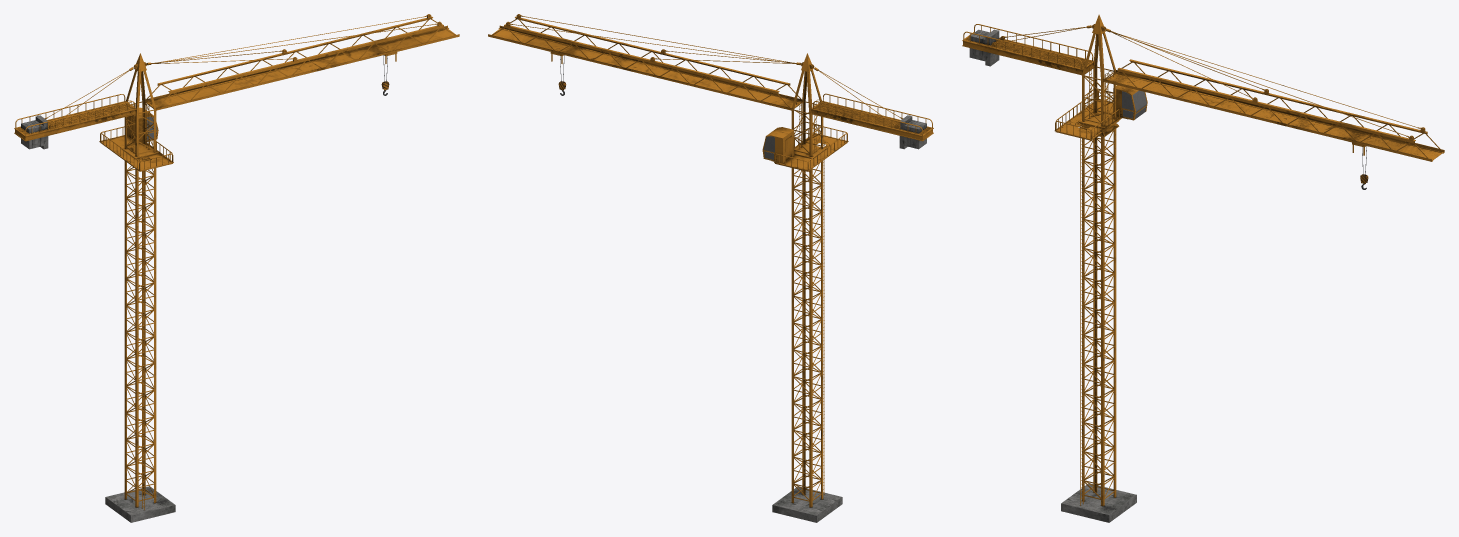
The model's file is tower_crane.glb.
The picture shows the model from 3 angles, left to right: view 1: azimuth 30°, elevation 25°; view 2: azimuth 150°, elevation 25°; view 3: azimuth 330°, elevation 25°; orthographic projection. The views are drawn at different scales.
Parts seen in each view (by area): view 1: Cube.052_UV_0, Cube.055_UV_0, Plane.023_UV_0, Cube.073_CONCRETE_0, Cube.053_UV_0, Cube.054_UV_0, Cube.056_frame_0, Cube.101_UV_0, Plane.029_UV_0, Cube.074_UV_0; view 2: Cube.052_UV_0, Cube.055_UV_0, Plane.023_UV_0, Cube.073_CONCRETE_0, Cube.053_UV_0, Cube.054_UV_0, Cube.056_frame_0, Cube.101_UV_0, Cube.072_UV_0, Cube.075_UV_0, Cube.074_UV_0; view 3: Cube.052_UV_0, Cube.055_UV_0, Plane.023_UV_0, Cube.073_CONCRETE_0, Cube.053_UV_0, Cube.054_UV_0, Cube.056_frame_0, Plane.029_UV_0, Cube.074_UV_0, Cube.101_UV_0, Cube.075_UV_0.
Boxes of the visible parts, <box> form: Cube.052_UV_0: <box>124,161,156,507</box>; Cube.055_UV_0: <box>145,16,459,110</box>; Plane.023_UV_0: <box>147,29,455,107</box>; Cube.073_CONCRETE_0: <box>105,486,175,522</box>; Cube.053_UV_0: <box>124,70,156,156</box>; Cube.054_UV_0: <box>14,101,136,141</box>; Cube.056_frame_0: <box>16,101,134,134</box>; Cube.101_UV_0: <box>102,136,171,169</box>; Plane.029_UV_0: <box>137,155,144,510</box>; Cube.074_UV_0: <box>138,175,153,501</box>; Cube.052_UV_0: <box>791,161,823,507</box>; Cube.055_UV_0: <box>488,16,802,110</box>; Plane.023_UV_0: <box>491,29,800,107</box>; Cube.073_CONCRETE_0: <box>772,486,842,522</box>; Cube.053_UV_0: <box>791,70,823,156</box>; Cube.054_UV_0: <box>811,100,933,141</box>; Cube.056_frame_0: <box>814,101,931,134</box>; Cube.101_UV_0: <box>776,134,845,169</box>; Cube.072_UV_0: <box>762,127,794,163</box>; Cube.075_UV_0: <box>794,175,809,501</box>; Cube.074_UV_0: <box>804,169,821,493</box>; Cube.052_UV_0: <box>1082,129,1116,506</box>; Cube.055_UV_0: <box>1103,59,1444,161</box>; Plane.023_UV_0: <box>1106,73,1442,160</box>; Cube.073_CONCRETE_0: <box>1061,483,1136,522</box>; Cube.053_UV_0: <box>1082,32,1116,126</box>; Cube.054_UV_0: <box>962,32,1094,75</box>; Cube.056_frame_0: <box>965,36,1092,68</box>; Plane.029_UV_0: <box>1075,120,1083,505</box>; Cube.074_UV_0: <box>1084,136,1100,499</box>; Cube.101_UV_0: <box>1057,100,1118,138</box>; Cube.075_UV_0: <box>1095,137,1114,490</box>.
Bounding box in the file's own units: 51.5 × 51.61 × 8.28.
Materials: 7 (7 with a texture image).
